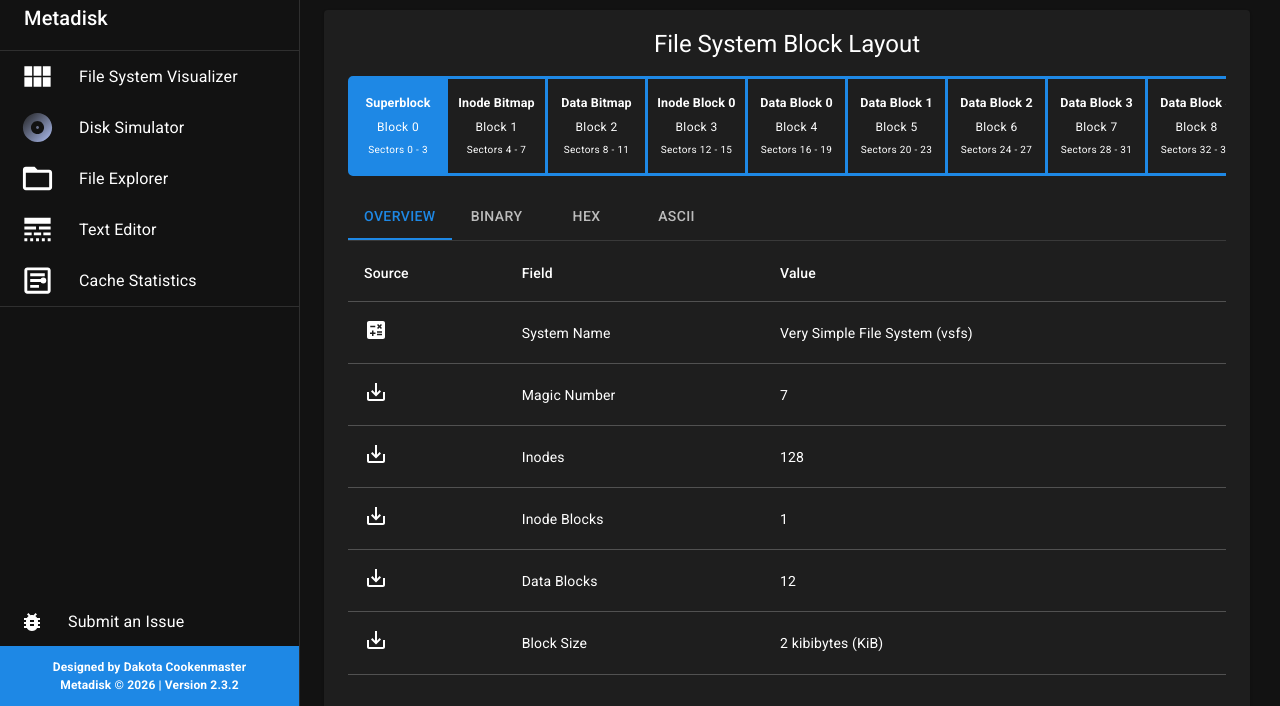
Test: renders the File Explorer › opens a new dialog for creating a file
This screenshot has width=1280, height=706.
Click the button "Disk Simulator" at (102, 128), box [20, 110, 184, 145]
(page scrolled)
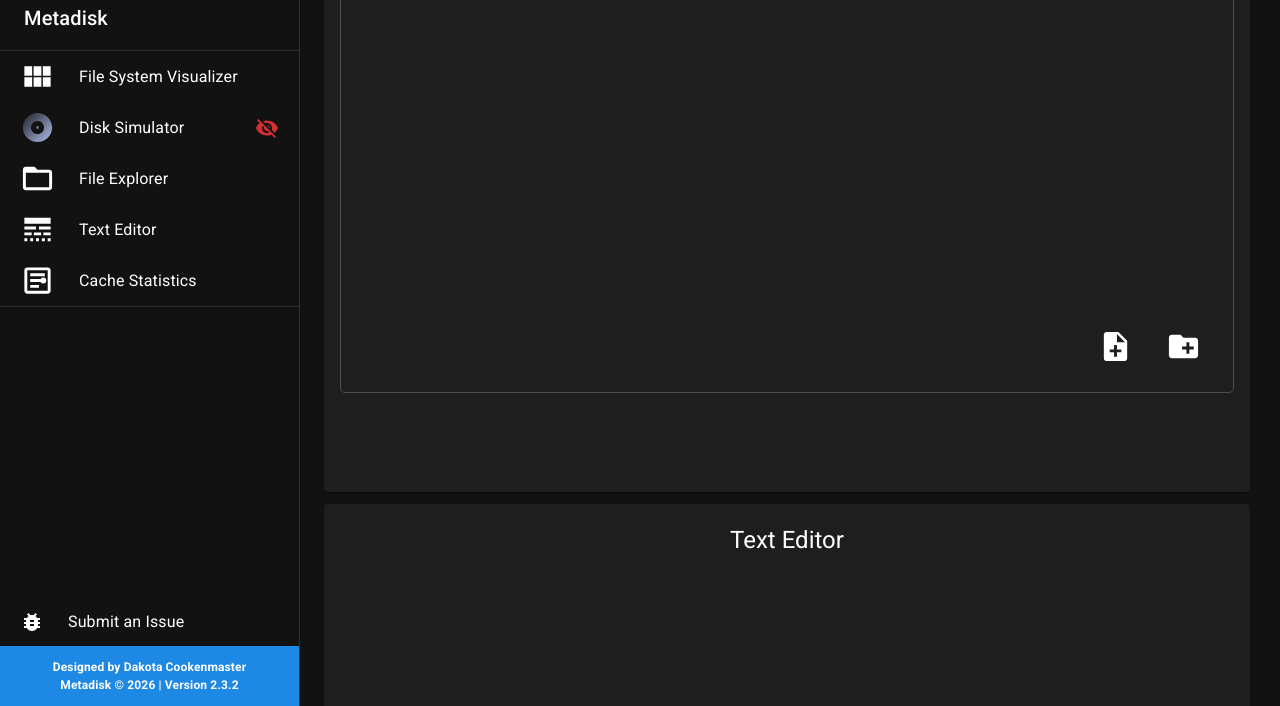
Check: the button with test id "New File Button" is enabled
Click the button with test id "New File Button" at (1115, 346), box [1085, 316, 1145, 376]
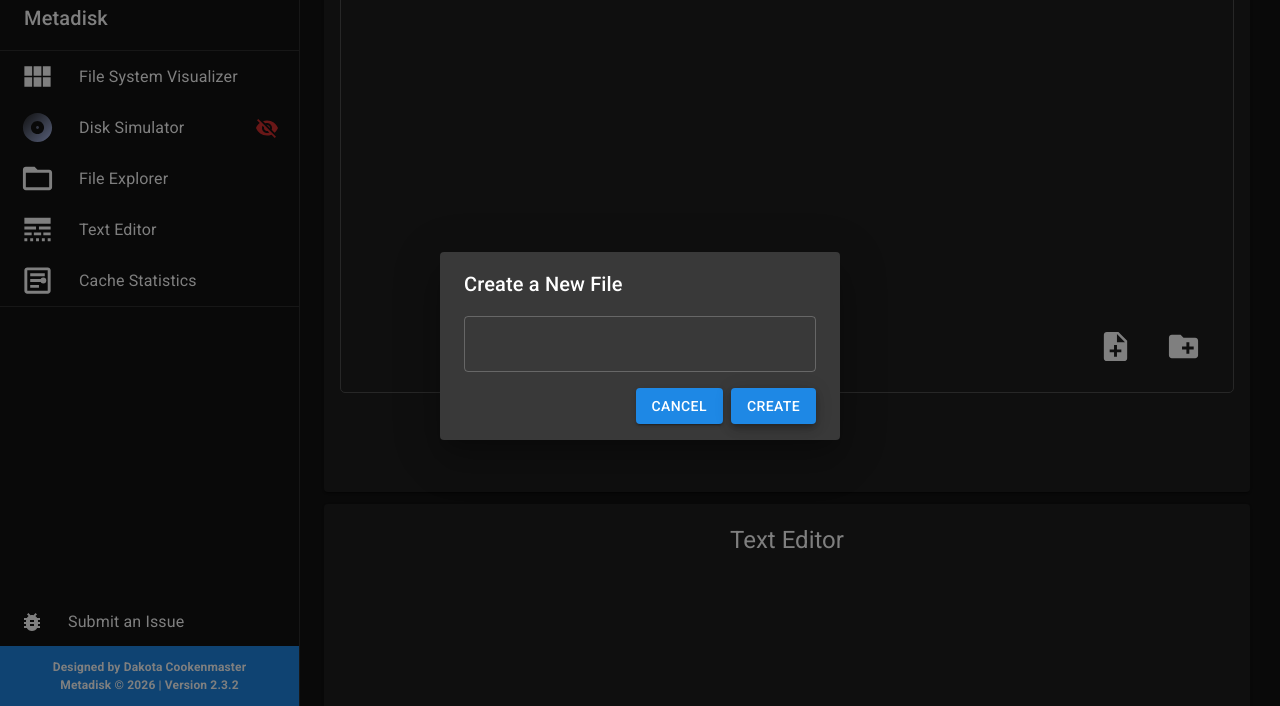
Check: the field is shown
Type "My New File" into the field at (640, 344), box [464, 316, 816, 372]
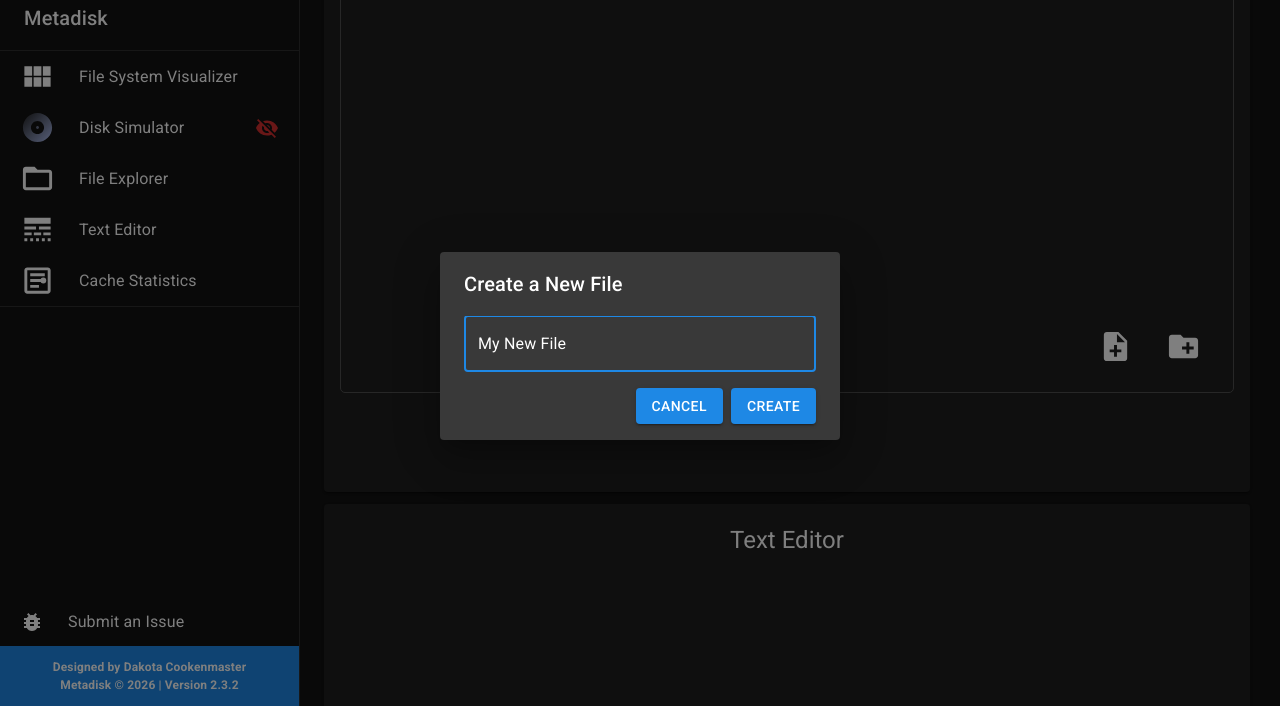
Click the button "Create" at (773, 406), box [731, 388, 816, 424]
(page scrolled)
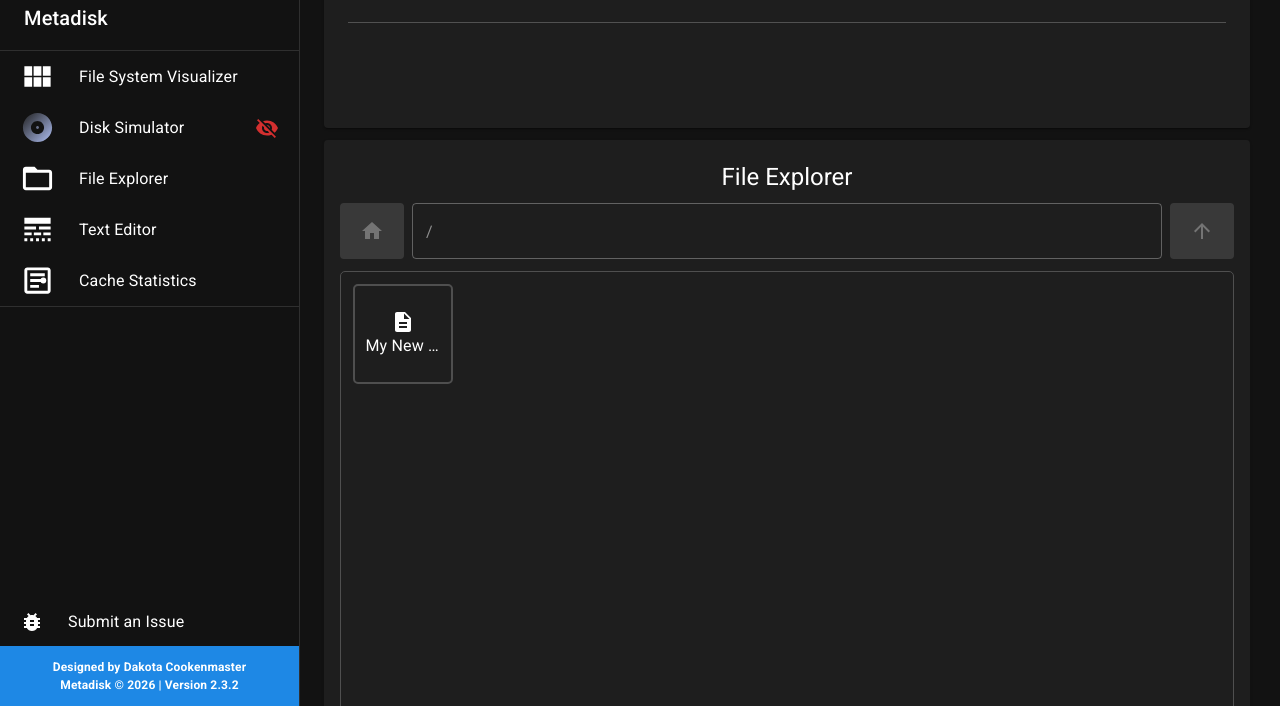
Check: the text "My New File" is shown, box [366, 334, 440, 358]
